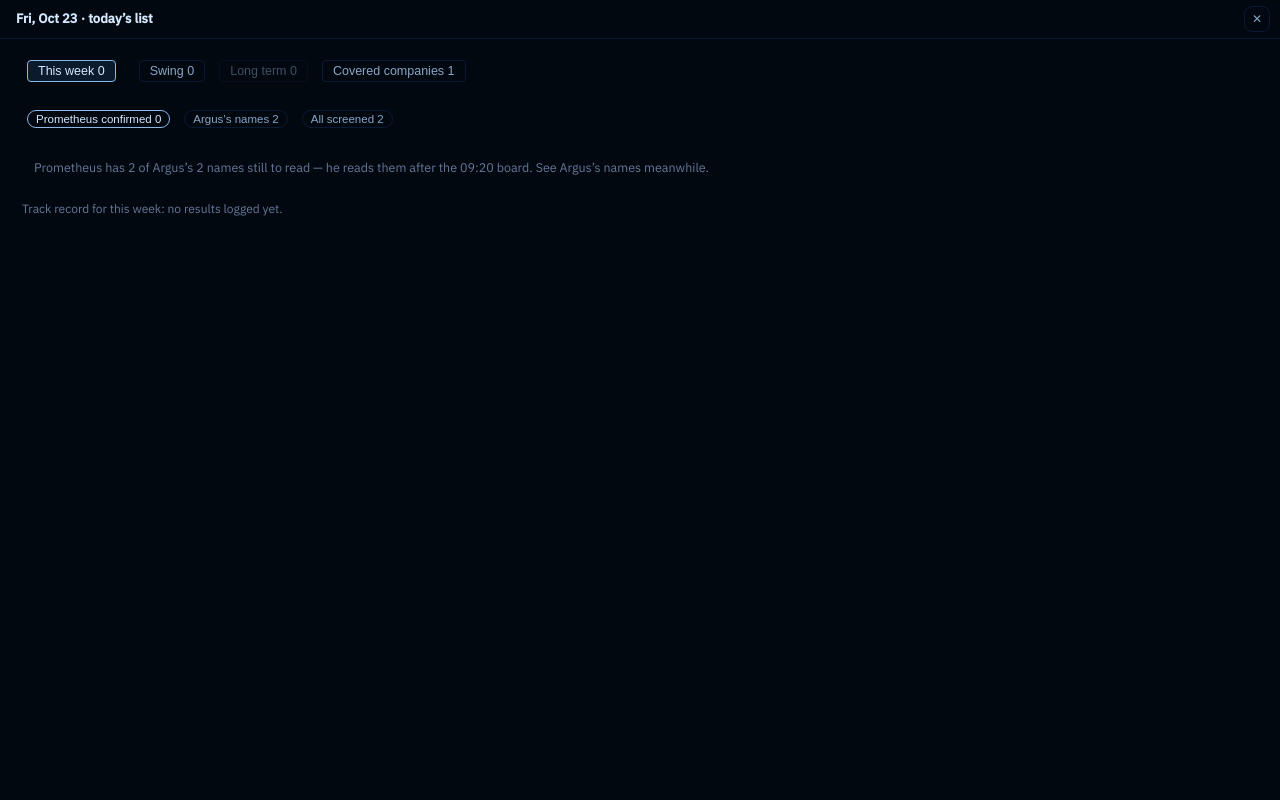
Scenario: HotlistPanel — the survivors lists, reviewed › a book from a server without the chain's picks says they are not there — never "the chain sent nothing"
Click the button "Swing 0".
click(172, 71)  # box [139, 60, 205, 82]
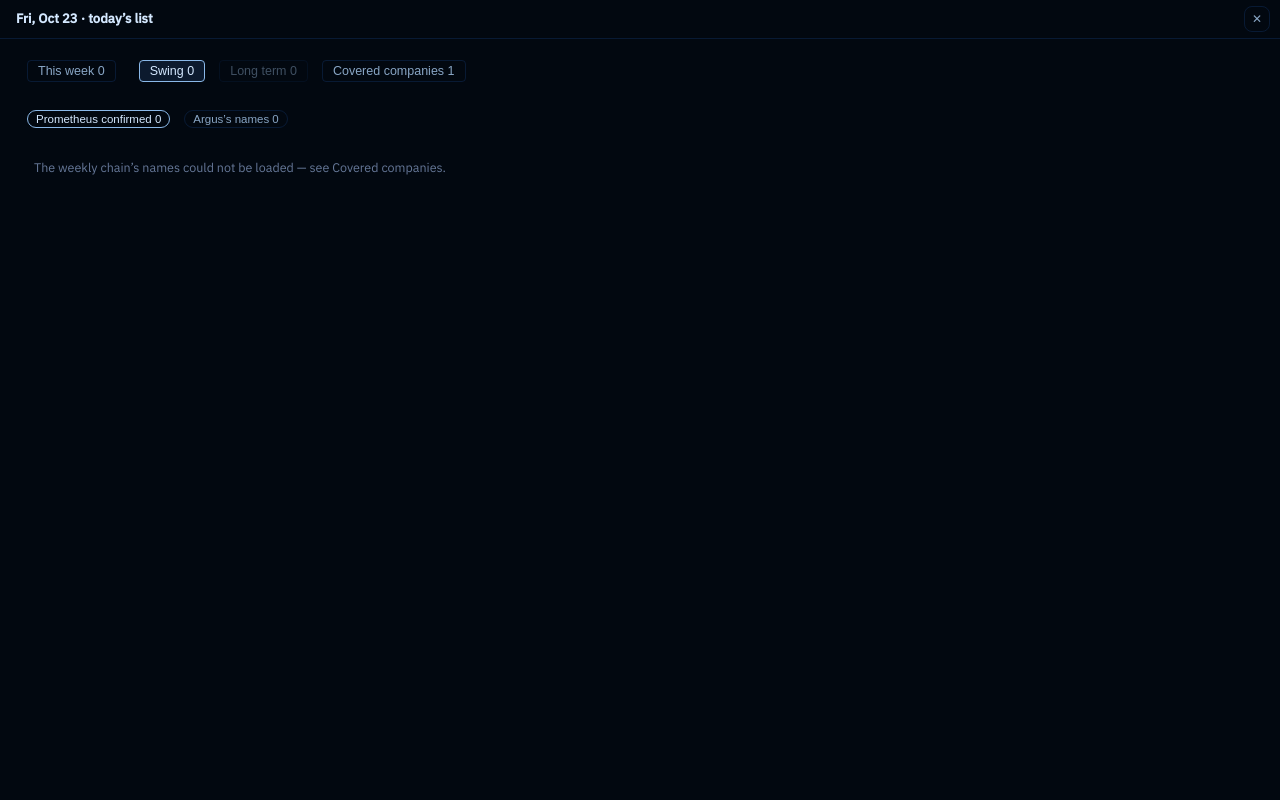
Expected: the text "could not be loaded" is shown, [34, 159, 446, 175]
